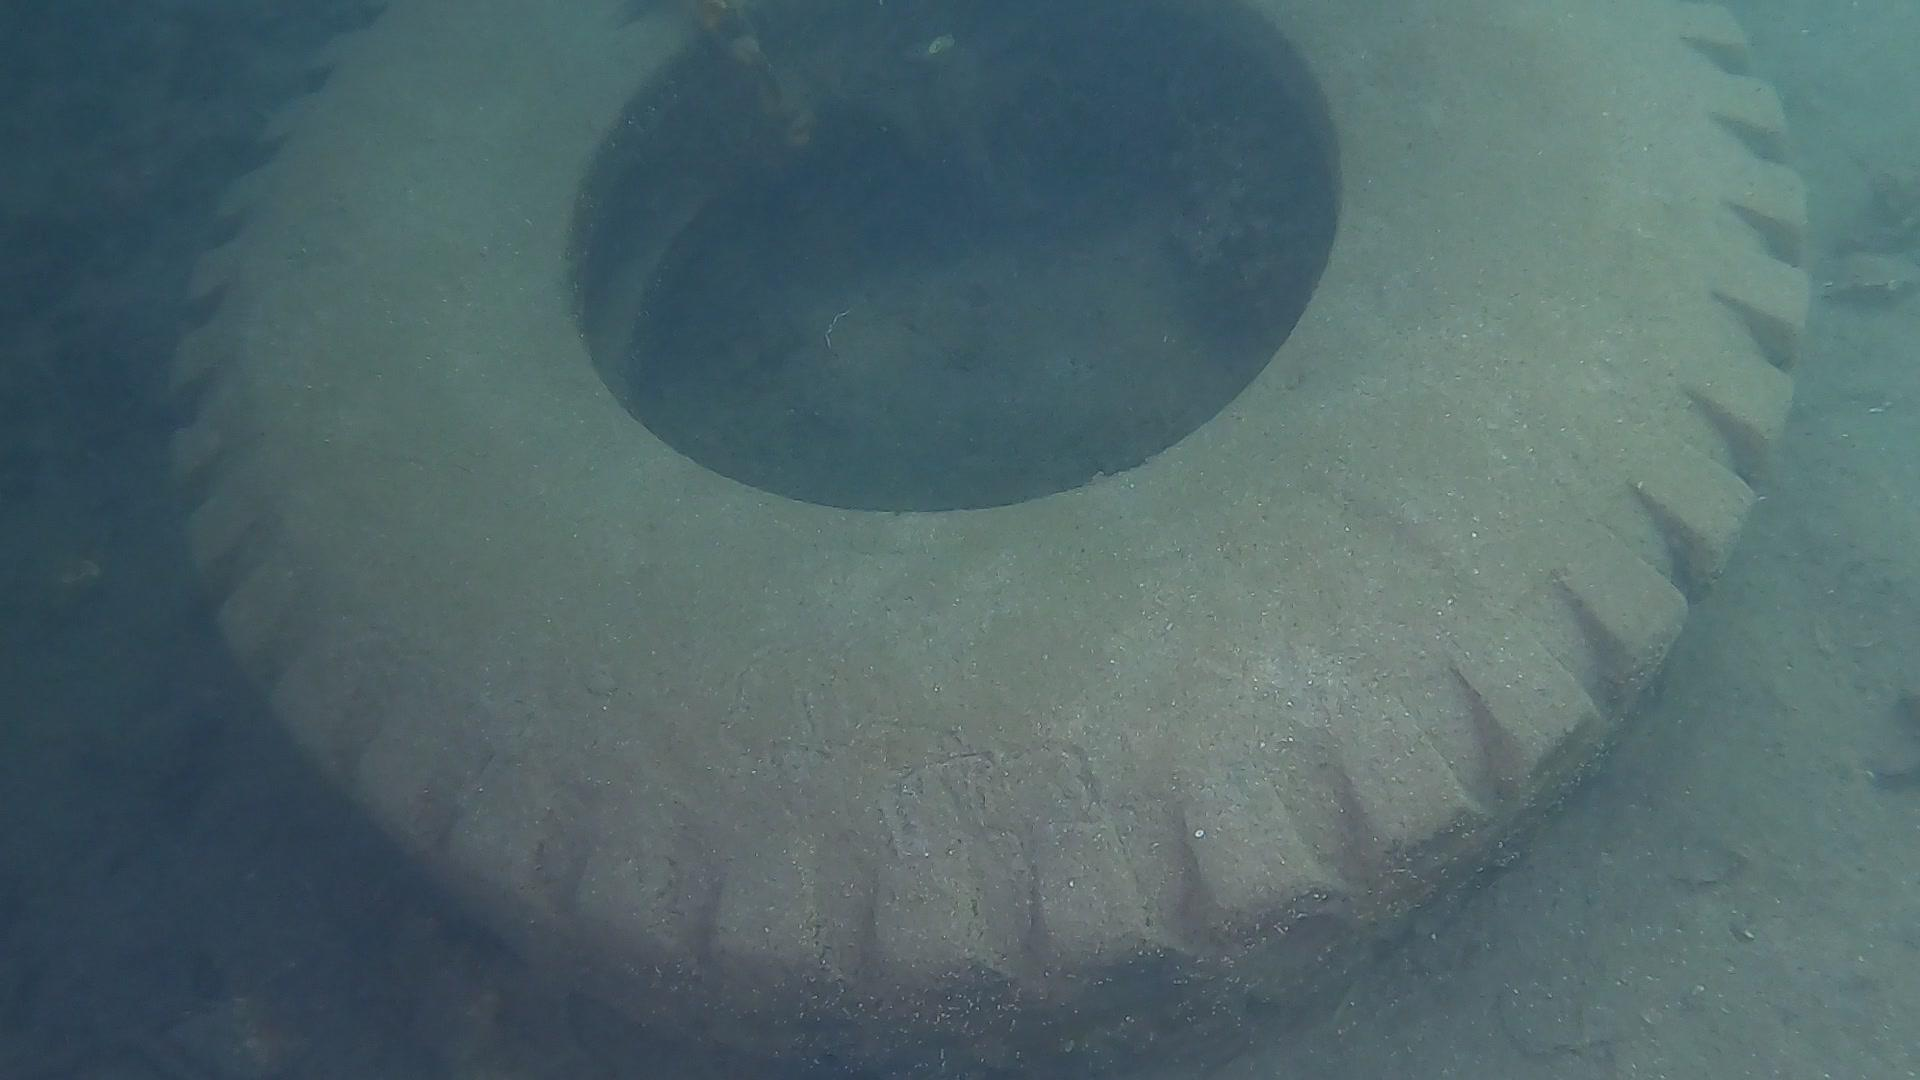tire: (160, 0, 1811, 1080)
